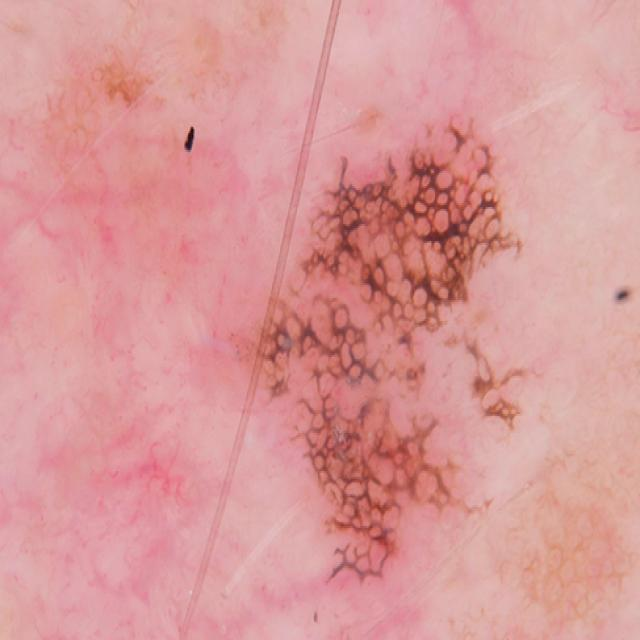Keratosis: (220, 117, 576, 625)
